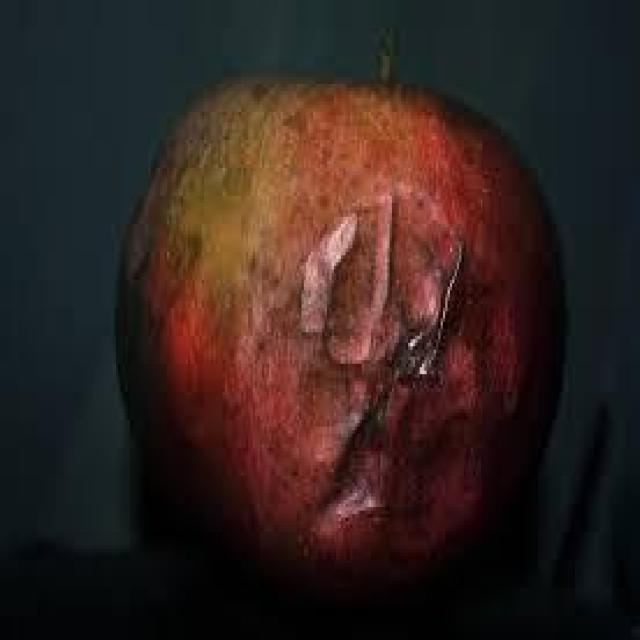maca: (114, 63, 564, 587)
